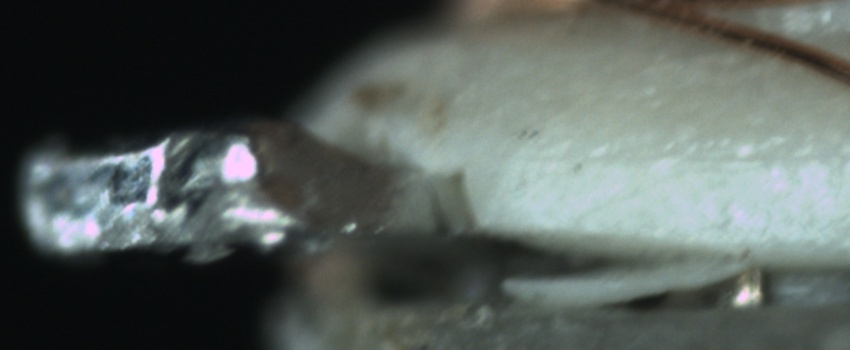DL: (506, 126, 850, 190)
